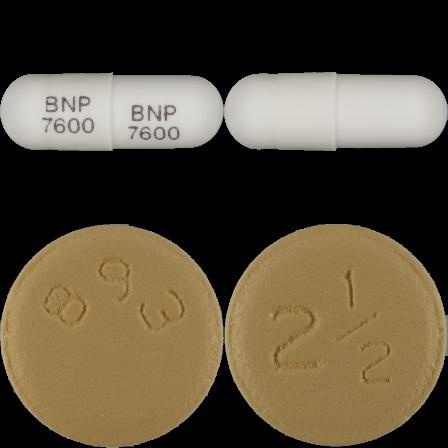55154-0553: (0, 0, 224, 224)
